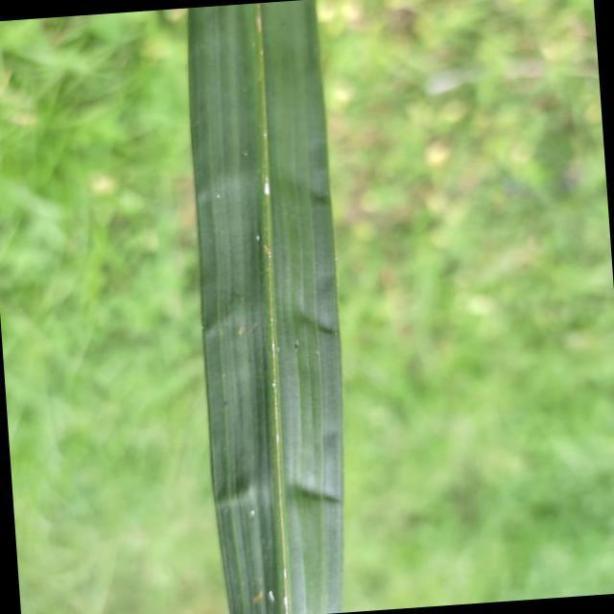Boron: (187, 0, 347, 614)
